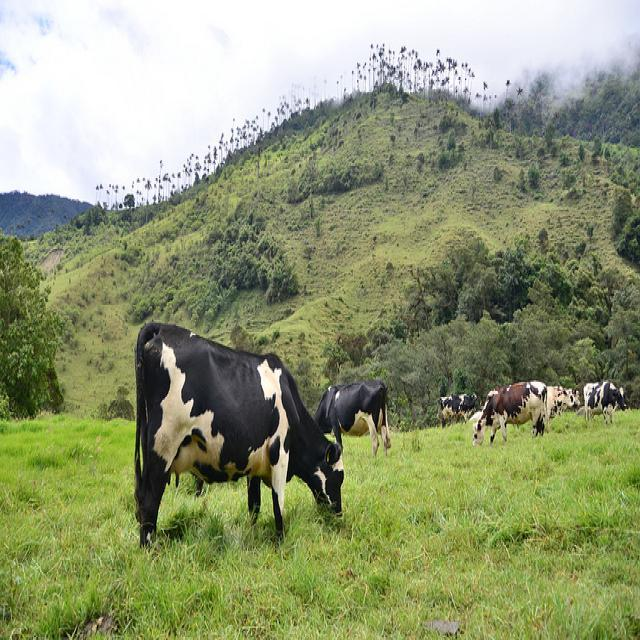cow: (129, 320, 343, 552), (312, 377, 389, 456), (471, 379, 549, 444), (582, 381, 625, 425), (438, 390, 477, 427), (545, 384, 578, 414)
